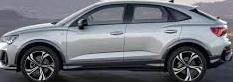Crossovers: (1, 3, 232, 82)
